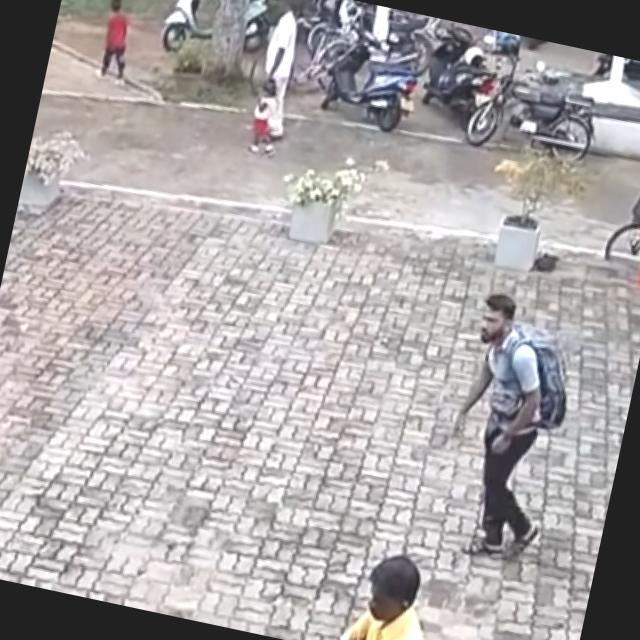person: (429, 288, 586, 567), (336, 546, 445, 640), (247, 0, 311, 139), (93, 0, 140, 81), (245, 75, 290, 157)
